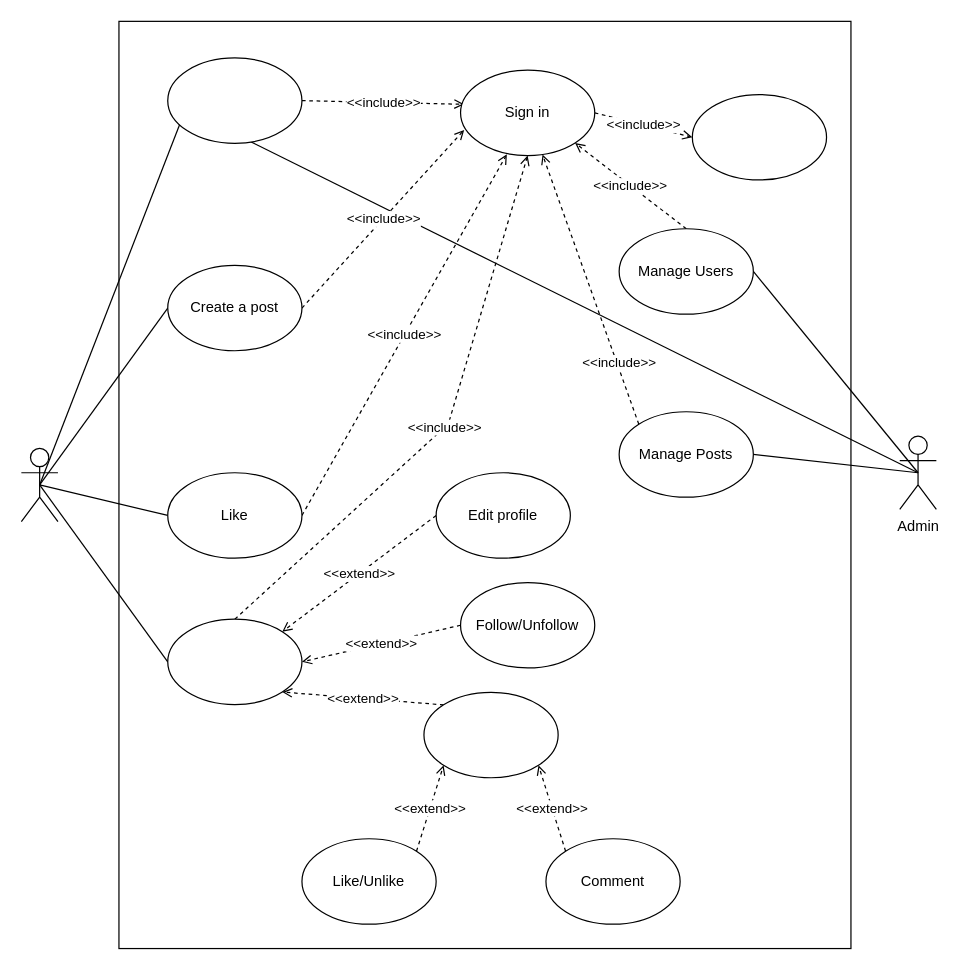
Some shapes in this 960 by 970 pixel diagram are drawn without their labels. Here are the shapes that lost their labels. From the top down, the centre of each, then its label:
At pixel 234 100: "Sign up".
At pixel 759 136: "Validate".
At pixel 39 484: "User".
At pixel 234 661: "View profile".
At pixel 490 734: "View post".
